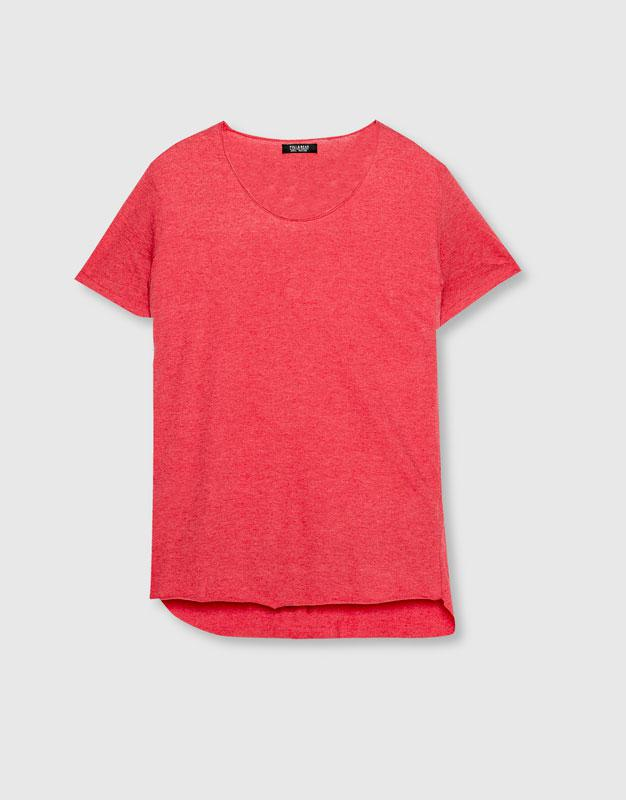teeshirt: (73, 111, 544, 673)
